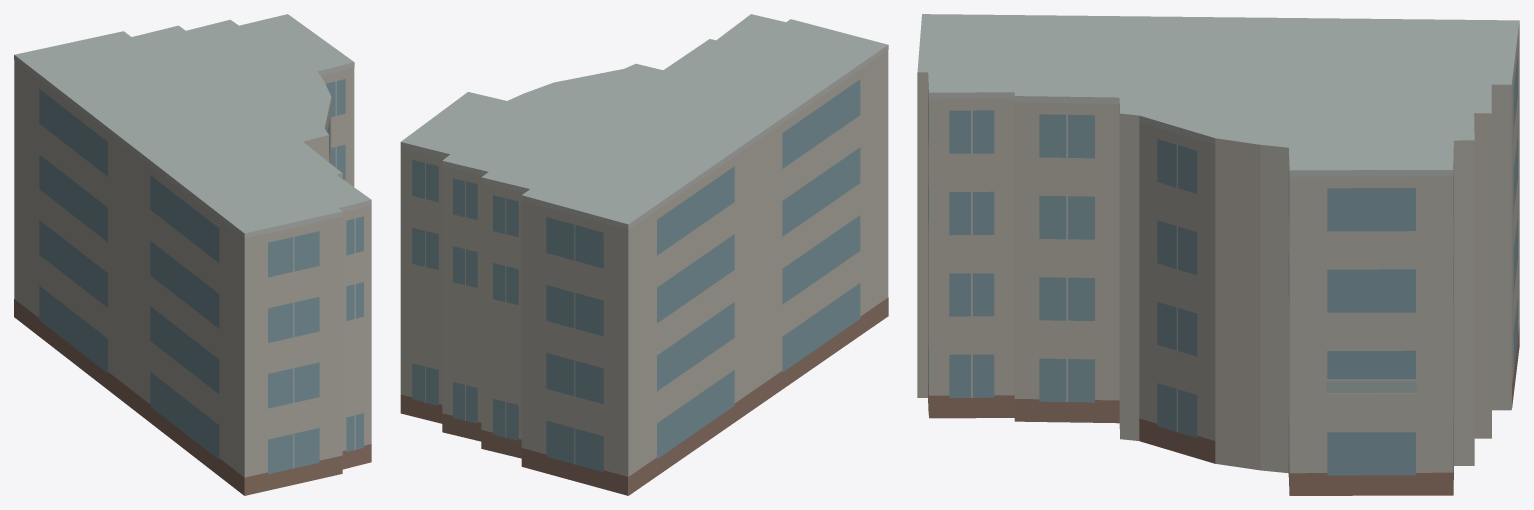
The model's file is survey-upis-32561760.glb.
3 views of the same model, side by side, from view 1: azimuth 30°, elevation 25°; view 2: azimuth 150°, elevation 25°; view 3: azimuth 270°, elevation 25° (orthographic). The views are drawn at different scales.
Visible parts, largest first — view 1: survey-upis-32561760.tmp; view 2: survey-upis-32561760.tmp; view 3: survey-upis-32561760.tmp.
Boxes of the visible parts, box(x1,y1,x2,y2) form: survey-upis-32561760.tmp: box(14, 14, 371, 495); survey-upis-32561760.tmp: box(400, 14, 888, 495); survey-upis-32561760.tmp: box(917, 14, 1519, 495).
Size of the model in its own units: 12.59 by 12.2 by 20.46.
